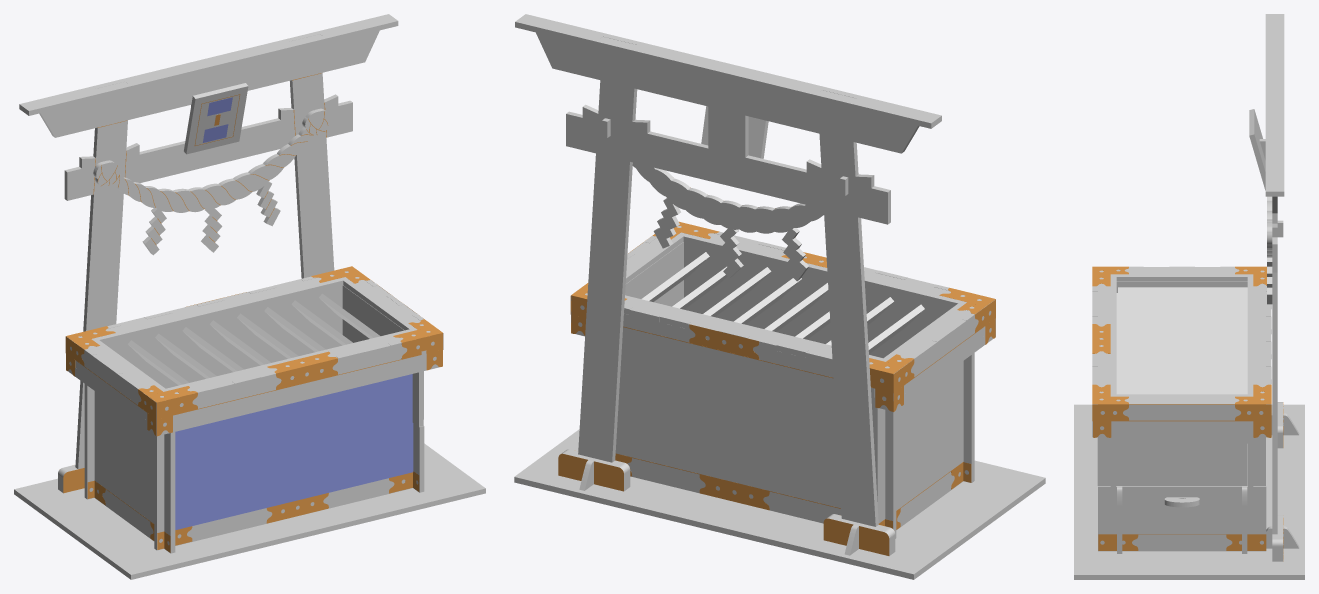
The model's file is saisenglb6.glb.
The picture shows the model from 3 angles, left to right: view 1: azimuth 30°, elevation 25°; view 2: azimuth 150°, elevation 25°; view 3: azimuth 270°, elevation 25°; orthographic projection. The views are drawn at different scales.
Visible parts, largest first — view 1: 本体.014, 刻印３(大きな文字), 本体.040, 茶色, 本体.002, 本体.033, 本体.011, 本体.041, 本体.043, 本体.010, 本体.016, 本体.003 (+4 smaller); view 2: 本体.014, 本体.002, 本体.040, 茶色, 本体.003, 本体.011, 本体.033, 本体.034, 本体.010, 本体.041, 本体.016, 本体.045 (+2 smaller); view 3: 本体.016, 本体.040, 本体.006, 本体.012, 本体.033, 茶色, 本体.044, 本体.010, 本体.014, 本体.011, 本体.004, 本体.041 (+6 smaller).
Part boxes in pixels (x1,y1,x2,y2): 本体.014: (39,30,379,492); 刻印３(大きな文字): (175,374,413,529); 本体.040: (14,443,485,579); 茶色: (63,73,443,552); 本体.002: (75,285,342,499); 本体.033: (66,271,430,407); 本体.011: (94,391,178,553); 本体.041: (93,108,329,255); 本体.043: (156,340,439,435); 本体.010: (19,14,398,115); 本体.016: (128,293,380,385); 本体.003: (144,371,423,550); 本体.014: (536,32,919,553); 本体.002: (615,345,906,538); 本体.040: (514,429,1045,579); 茶色: (558,187,995,555); 本体.003: (684,242,985,482); 本体.011: (871,361,963,529); 本体.033: (571,226,995,373); 本体.034: (576,305,896,410); 本体.010: (515,14,941,128); 本体.041: (632,162,823,281); 本体.016: (641,252,924,353); 本体.045: (893,310,995,409); 本体.016: (1116,287,1247,394); 本体.040: (1074,404,1304,579); 本体.006: (1098,484,1266,551); 本体.012: (1097,437,1265,485); 本体.033: (1092,267,1271,409); 茶色: (1092,266,1283,561); 本体.044: (1092,402,1266,437); 本体.010: (1265,14,1284,196); 本体.014: (1272,48,1277,561); 本体.011: (1116,281,1247,292); 本体.004: (1249,109,1265,190); 本体.041: (1267,196,1272,304).
Bounding box in the file's own units: 156 × 163 × 85.56.
